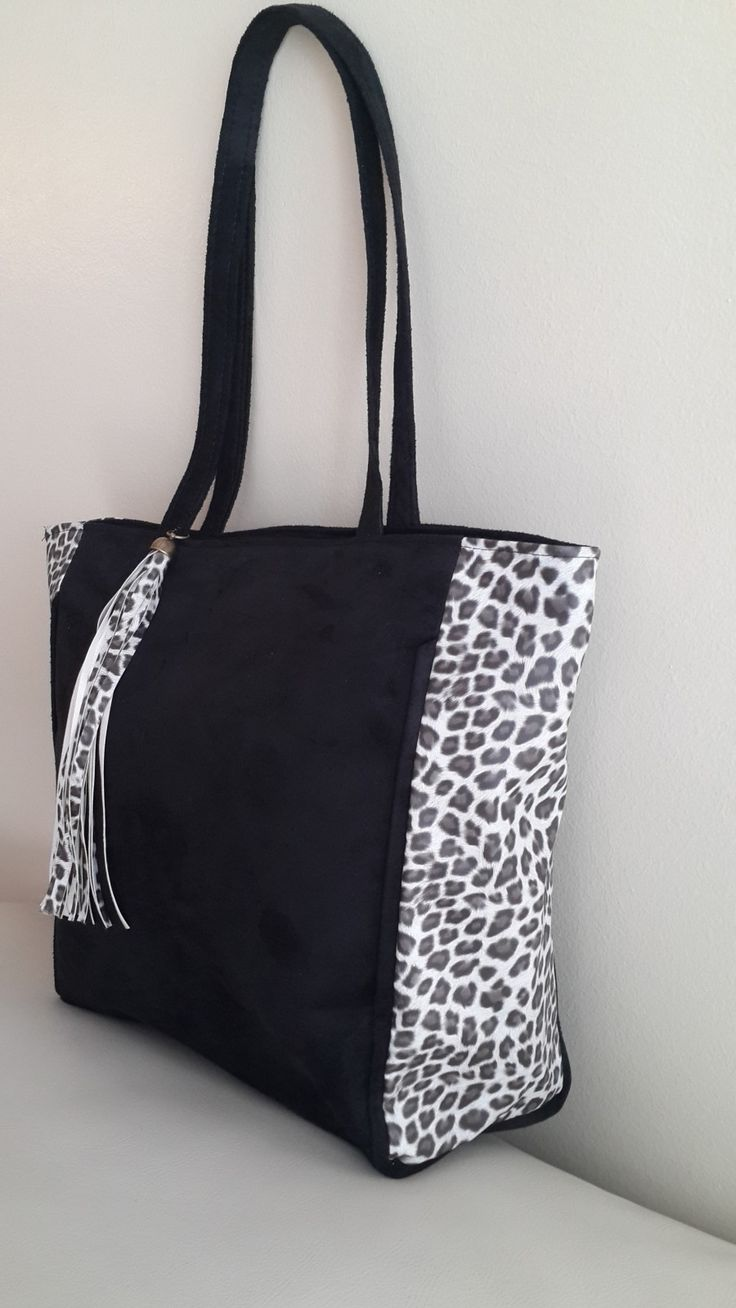gamuza: (44, 516, 458, 1176)
